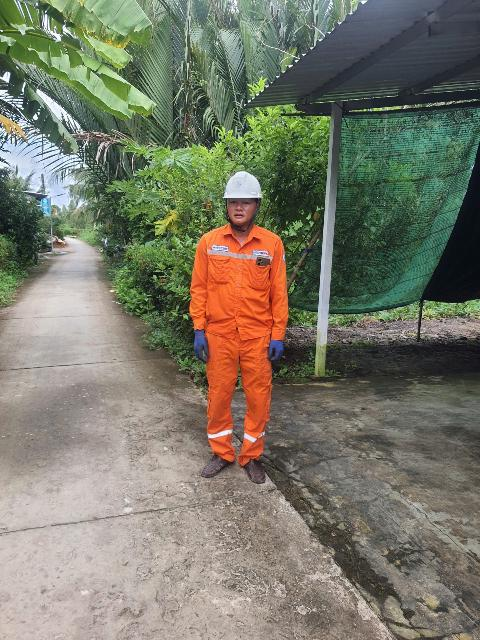gloves: (183, 328, 223, 368), (264, 336, 287, 370)
helmet: (220, 167, 271, 204)
shoes: (187, 444, 233, 485), (237, 454, 272, 494)
